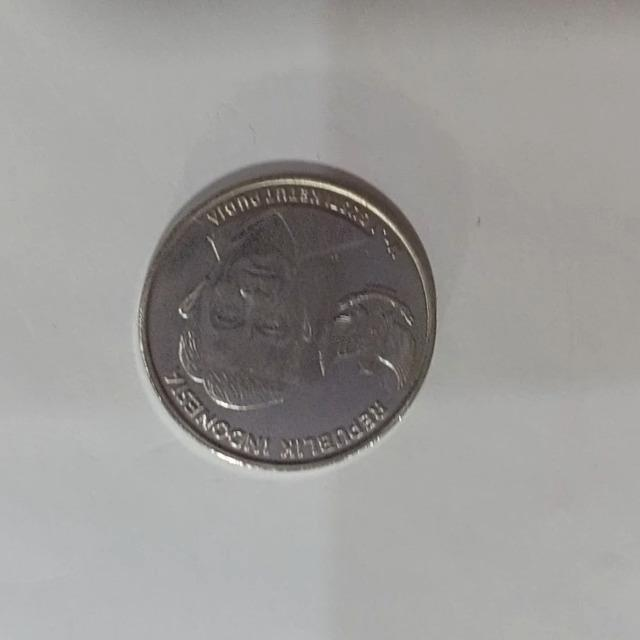Rp100: (135, 159, 438, 473)
